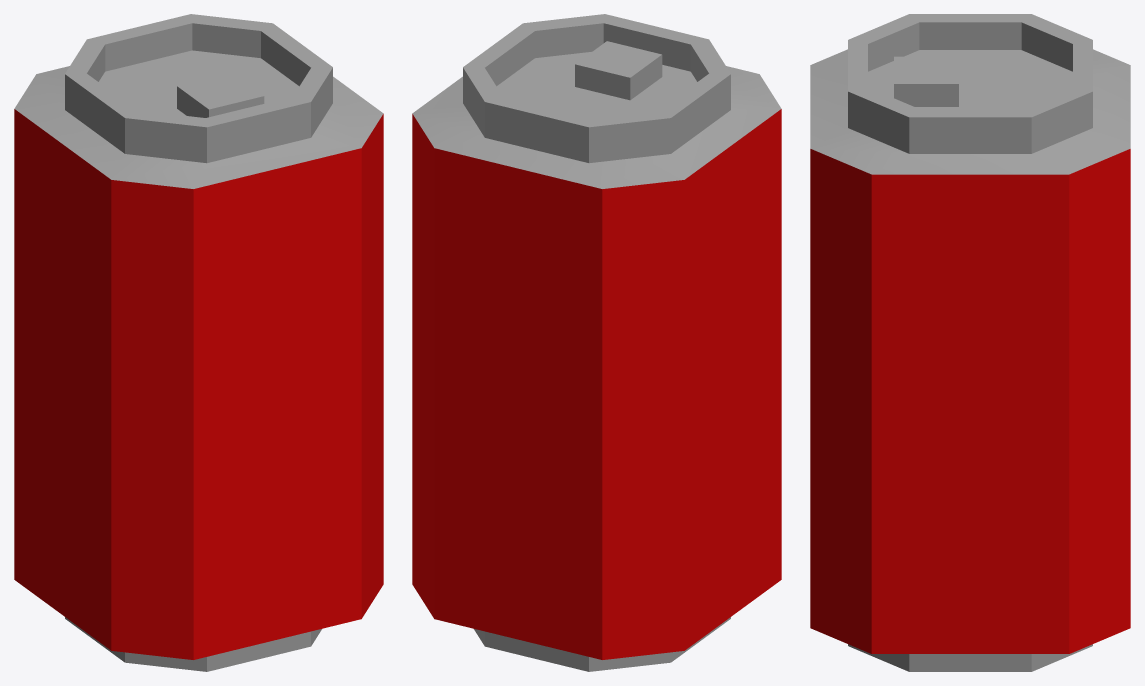
File: sm_LPsodaCan_1.fbx
The picture shows the model from 3 angles, left to right: view 1: azimuth 30°, elevation 25°; view 2: azimuth 150°, elevation 25°; view 3: azimuth 270°, elevation 25°; orthographic projection.
Parts seen in each view (by area): view 1: pCube2; view 2: pCube2; view 3: pCube2.
Boxes of the visible parts, x1,y1,x2,y2 form: pCube2: (14,14,383,671); pCube2: (412,14,781,671); pCube2: (810,14,1130,671).
Bounding box in the file's own units: 0.2044 × 0.3907 × 0.2044.
